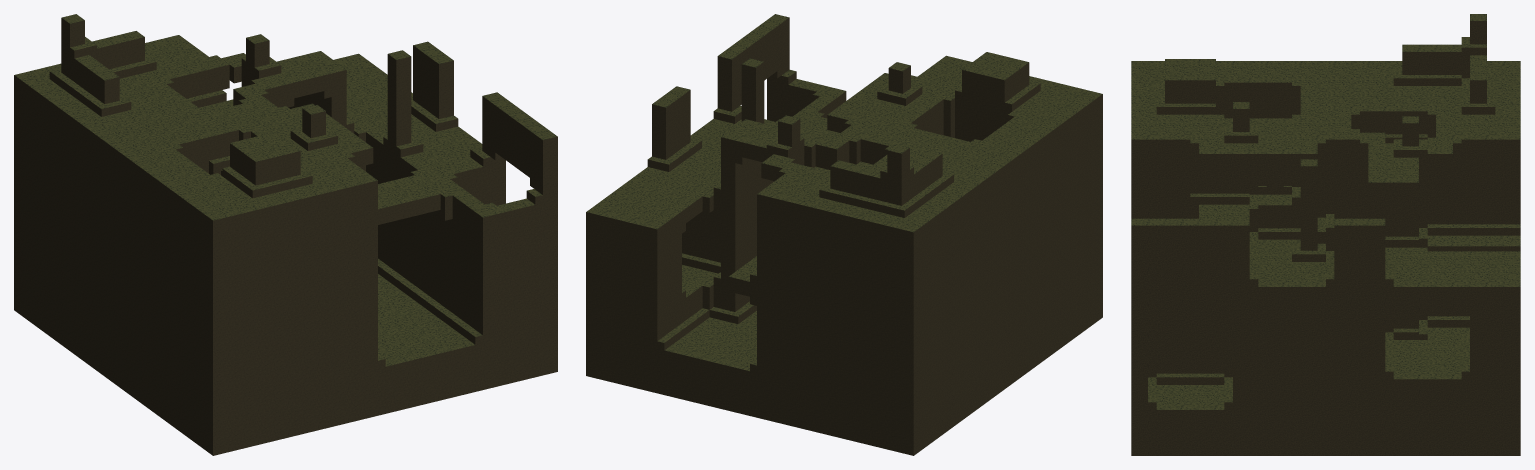
Rendered from marais.glb.
The picture shows the model from 3 angles, left to right: view 1: azimuth 30°, elevation 25°; view 2: azimuth 150°, elevation 25°; view 3: azimuth 270°, elevation 25°; orthographic projection. The views are drawn at different scales.
Visible parts, largest first — view 1: edge_inner_b4h2_outdoor_345, edge_inner_b4h2_outdoor_338, slab_b2h2_outdoor_161, slab_b2h2_outdoor_310, slab_b2h2_outdoor_330, slab_b2h2_outdoor_377, slab_b2h2_outdoor_745, slab_b2h2_outdoor_916, slab_b2h2_outdoor_131, slab_b2h2_outdoor_141, slab_b2h2_outdoor_173, slab_b2h2_outdoor_209 (+182 smaller); view 2: edge_inner_b4h2_outdoor_337, edge_inner_b4h2_outdoor_254, edge_inner_b3h3_outdoor_407, edge_inner_b4h2_845, corner_inner_b4h3_outdoor_749, slab_b2h2_outdoor_513, slab_b2h2_outdoor_692, slab_b2h2_outdoor_842, slab_b2h2_outdoor_850, slab_b2h2_outdoor_857, slab_b2h2_outdoor_835, slab_b2h2_outdoor_837 (+157 smaller); view 3: edge_inner_b4h2_outdoor_256, edge_inner_b4h2_outdoor_419, edge_inner_b4h2_outdoor_552, edge_inner_b4h2_553, edge_inner_b4h2_571, edge_inner_b4h2_outdoor_839, ell_inner_b3h2_b_572, slab_b2h2_outdoor_1016, slab_b2h2_outdoor_1023, slab_b2h2_outdoor_576, slab_b2h2_outdoor_586, slab_b2h2_outdoor_967 (+164 smaller).
Boxes of the visible parts, x1,y1,x2,y2 form: edge_inner_b4h2_outdoor_345: (263,161,305,200); edge_inner_b4h2_outdoor_338: (107,46,149,86); slab_b2h2_outdoor_161: (220,282,250,320); slab_b2h2_outdoor_310: (280,299,310,337); slab_b2h2_outdoor_330: (280,236,310,274); slab_b2h2_outdoor_377: (310,323,340,361); slab_b2h2_outdoor_745: (460,349,490,387); slab_b2h2_outdoor_916: (520,240,550,278); slab_b2h2_outdoor_131: (220,407,250,445); slab_b2h2_outdoor_141: (220,345,250,383); slab_b2h2_outdoor_173: (220,219,250,257); slab_b2h2_outdoor_209: (250,369,280,407); edge_inner_b4h2_outdoor_337: (825,175,865,213); edge_inner_b4h2_outdoor_254: (854,182,894,220); edge_inner_b3h3_outdoor_407: (935,105,969,138); edge_inner_b4h2_845: (682,240,715,277); corner_inner_b4h3_outdoor_749: (694,292,727,326); slab_b2h2_outdoor_513: (735,375,764,411); slab_b2h2_outdoor_692: (678,361,707,397); slab_b2h2_outdoor_842: (621,288,650,324); slab_b2h2_outdoor_850: (621,258,650,294); slab_b2h2_outdoor_857: (621,228,650,264); slab_b2h2_outdoor_835: (621,347,650,383); slab_b2h2_outdoor_837: (621,318,650,354); edge_inner_b4h2_outdoor_256: (1410,59,1444,93); edge_inner_b4h2_outdoor_419: (1173,88,1207,121); edge_inner_b4h2_outdoor_552: (1478,209,1512,242); edge_inner_b4h2_553: (1444,209,1478,242); edge_inner_b4h2_571: (1207,178,1241,211); edge_inner_b4h2_outdoor_839: (1173,358,1207,391); ell_inner_b3h2_b_572: (1173,178,1207,212); slab_b2h2_outdoor_1016: (1478,294,1512,325); slab_b2h2_outdoor_1023: (1241,294,1275,325); slab_b2h2_outdoor_576: (1478,147,1512,178); slab_b2h2_outdoor_586: (1139,147,1173,178); slab_b2h2_outdoor_967: (1478,417,1512,448).
Bounding box in the file's own units: 11.5 × 9.5 × 11.5.
2 materials, 2 textured.
